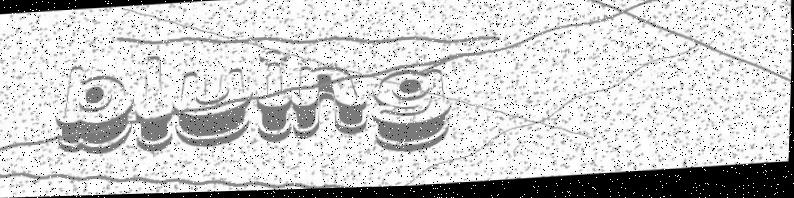b: (53, 63, 135, 156)
g: (370, 68, 452, 157)
i: (249, 49, 295, 148)
l: (133, 55, 177, 155)
n: (292, 61, 373, 142)
u: (172, 68, 254, 150)
